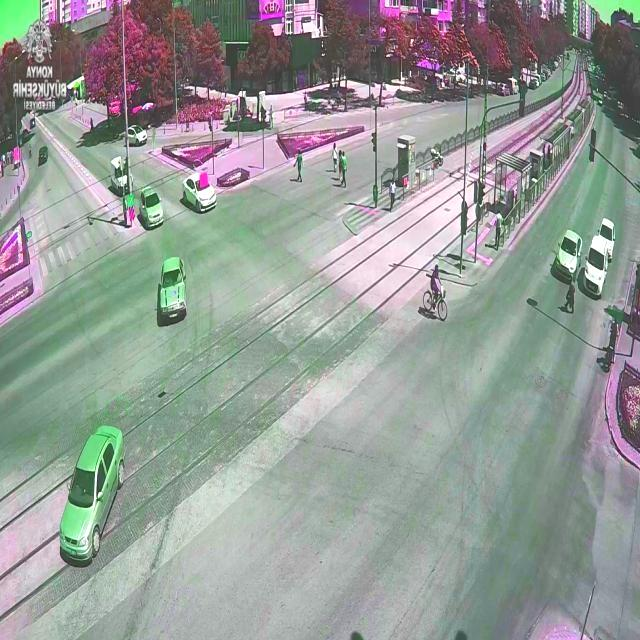Car: (58, 426, 124, 562), (158, 256, 187, 321), (553, 229, 583, 284), (583, 234, 609, 296), (182, 173, 217, 213), (139, 187, 164, 230), (595, 218, 616, 258), (124, 125, 148, 146), (38, 145, 48, 165), (507, 78, 519, 94), (497, 83, 511, 96), (528, 80, 536, 90), (30, 117, 36, 128), (533, 78, 539, 87)
Cycle: (422, 286, 448, 322)
Van: (109, 156, 134, 196)
